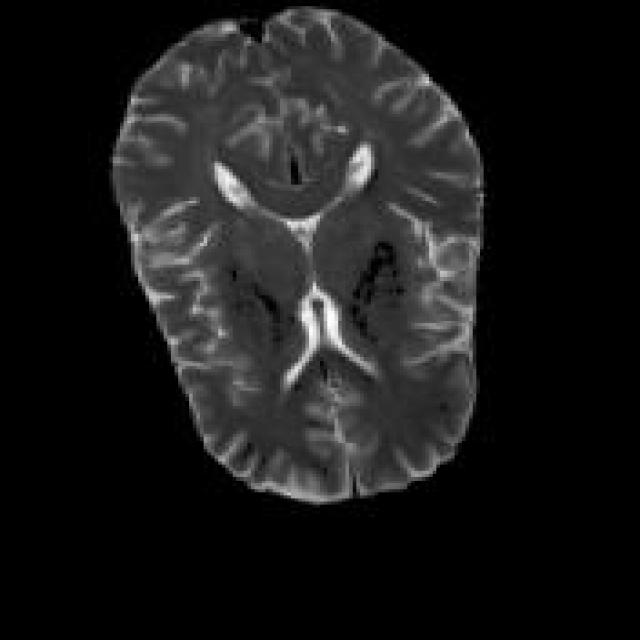parkinson: (105, 3, 488, 505)
